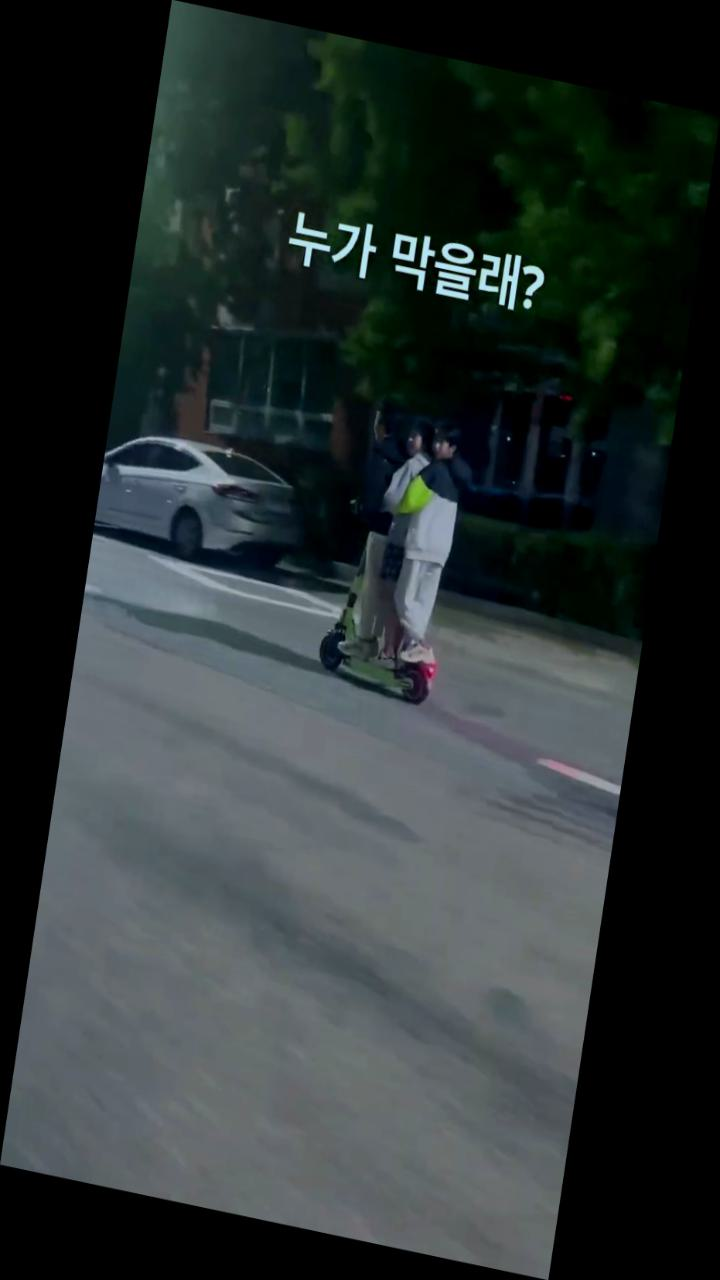multiple: (307, 388, 486, 711)
